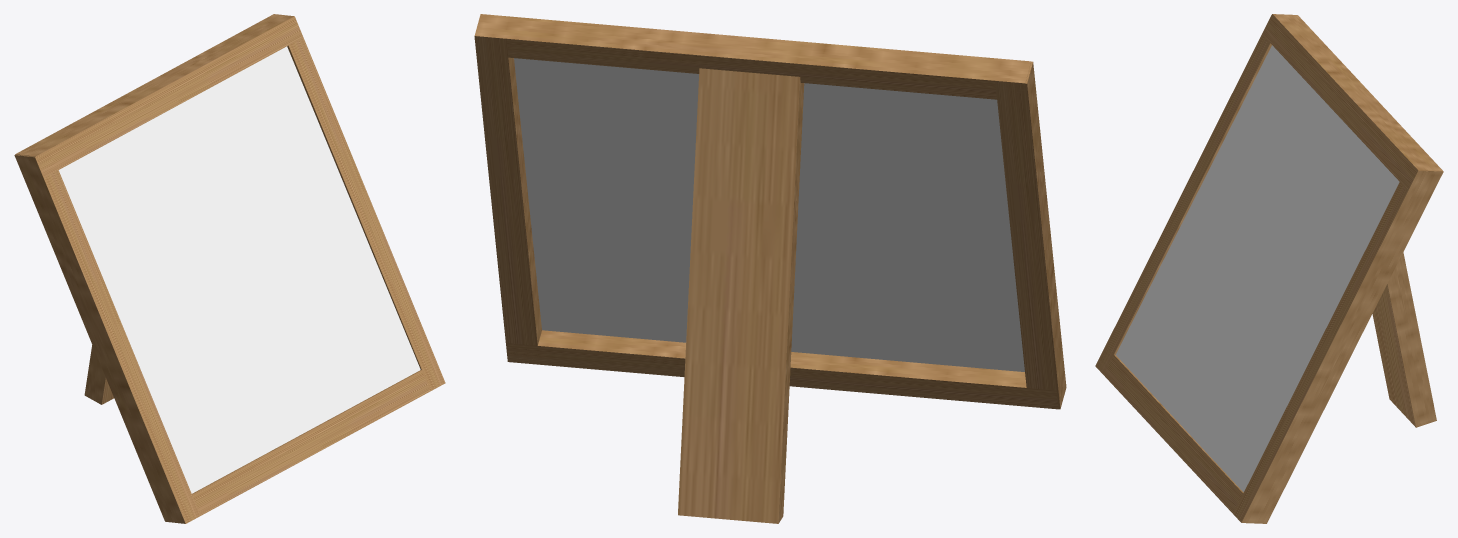
File: Wall Cabinet 1 (Parts - Side Picture).fbx
The picture shows the model from 3 angles, left to right: view 1: azimuth 30°, elevation 25°; view 2: azimuth 150°, elevation 25°; view 3: azimuth 270°, elevation 25°; orthographic projection. The views are drawn at different scales.
Visible parts, largest first — view 1: Cube.001, Cube.006; view 2: Cube.006, Cube.001; view 3: Cube.001, Cube.006.
Boxes of the visible parts, box(x1,y1,x2,y2) form: Cube.001: box(58, 46, 420, 493); Cube.006: box(14, 14, 445, 523); Cube.006: box(474, 14, 1066, 523); Cube.001: box(514, 58, 1024, 371); Cube.001: box(1116, 45, 1399, 492); Cube.006: box(1095, 14, 1443, 523).
Bounding box in the file's own units: 0.2332 × 0.1822 × 0.1727.
2 materials, 2 textured.
